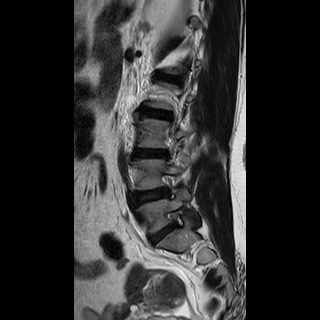LFS2: (159, 205, 190, 234)
